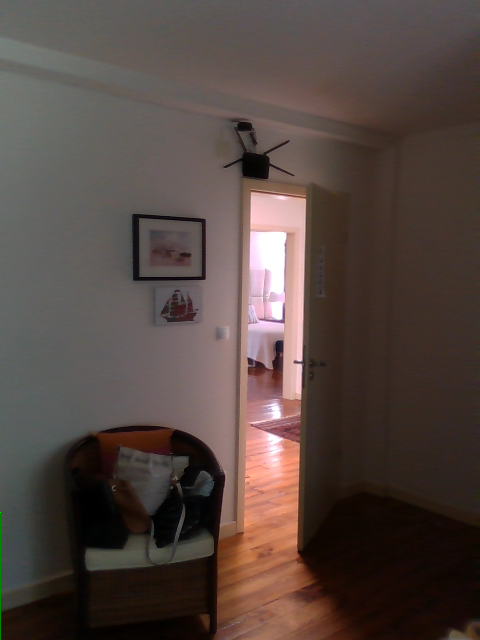semi: (235, 179, 342, 550)
